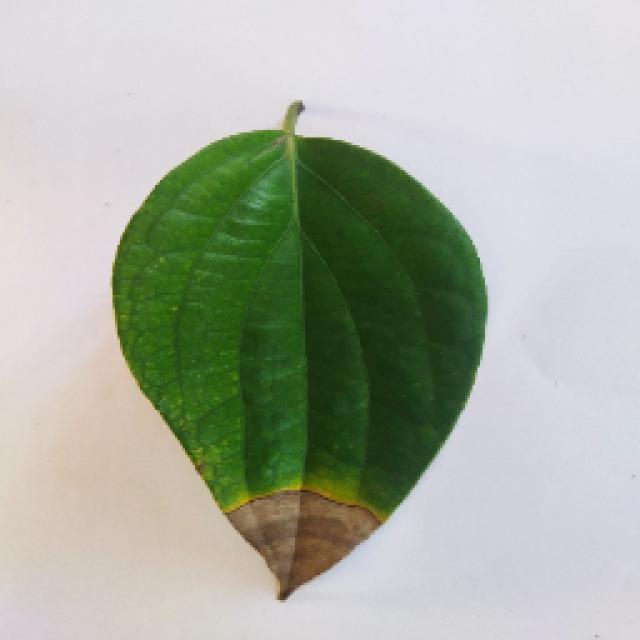footrot: (98, 102, 500, 598)
